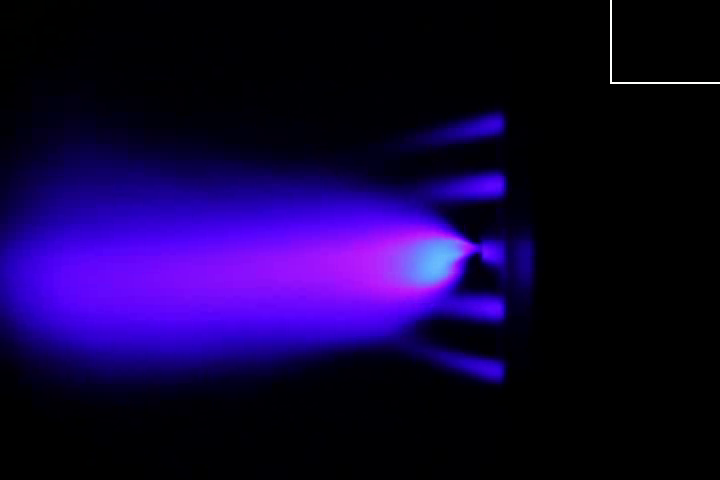burner cap: (478, 236, 505, 268)
pilot flame: (415, 344, 507, 381), (408, 112, 502, 147), (412, 172, 507, 202), (441, 291, 504, 324)
stable: (362, 222, 478, 291)
